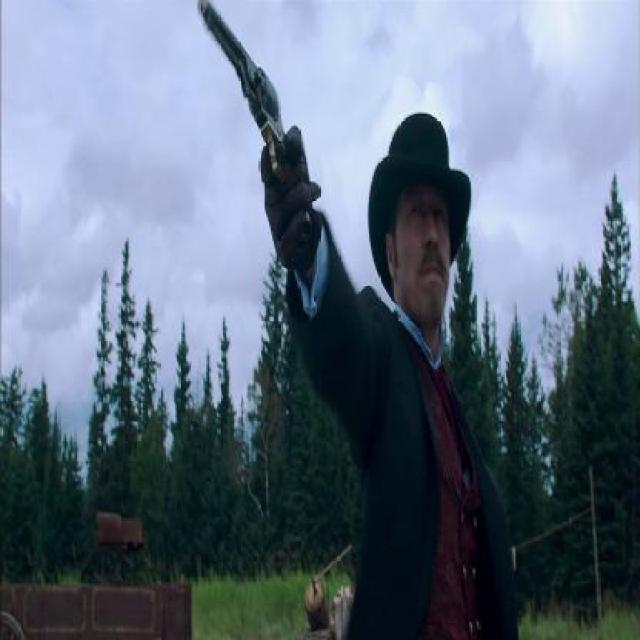guns: (191, 0, 311, 232)
